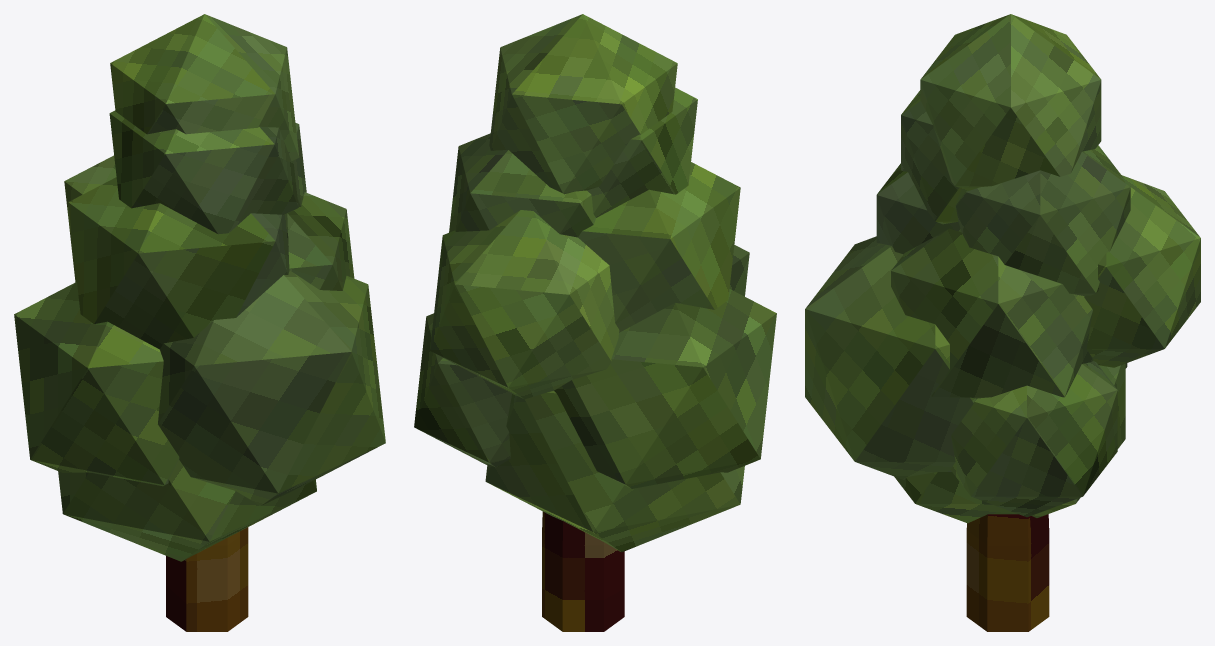
The model's file is oaktree.glb.
The picture shows the model from 3 angles, left to right: view 1: azimuth 30°, elevation 25°; view 2: azimuth 150°, elevation 25°; view 3: azimuth 270°, elevation 25°; orthographic projection.
Parts seen in each view (by area): view 1: Icosphere.002, Icosphere.006, Icosphere.001, Icosphere.009, Icosphere.008, Icosphere.004, Cylinder, Icosphere.003, Icosphere.007, Icosphere.005; view 2: Icosphere.001, Icosphere.007, Icosphere.009, Icosphere.004, Icosphere.006, Icosphere.005, Cylinder, Icosphere, Icosphere.008, Icosphere.002; view 3: Icosphere.002, Icosphere.009, Icosphere.003, Icosphere, Icosphere.005, Icosphere.007, Cylinder, Icosphere.008, Icosphere.004, Icosphere.006.
Part boxes in pixels (box(x1,y1,x2,y2)): Icosphere.002: box(158, 270, 385, 505); Icosphere.006: box(68, 177, 289, 349); Icosphere.001: box(14, 282, 179, 486); Icosphere.009: box(110, 14, 299, 160); Icosphere.008: box(109, 110, 298, 234); Icosphere.004: box(58, 460, 316, 561); Cylinder: box(166, 527, 248, 631); Icosphere.003: box(287, 192, 354, 290); Icosphere.007: box(64, 155, 116, 282); Icosphere.005: box(293, 122, 306, 206); Icosphere.001: box(554, 289, 776, 488); Icosphere.007: box(430, 210, 619, 399); Icosphere.009: box(489, 14, 677, 194); Icosphere.004: box(485, 391, 744, 552); Icosphere.006: box(578, 162, 740, 332); Icosphere.005: box(449, 133, 595, 237); Cylinder: box(542, 511, 624, 631); Icosphere: box(414, 313, 511, 467); Icosphere.008: box(587, 87, 697, 217); Icosphere.002: box(729, 245, 749, 296); Icosphere.002: box(805, 236, 975, 479); Icosphere.009: box(920, 14, 1101, 187); Icosphere.003: box(891, 228, 1093, 398); Icosphere: box(950, 361, 1117, 517); Icosphere.005: box(956, 145, 1130, 295); Icosphere.007: box(1084, 175, 1200, 367); Cylinder: box(966, 514, 1049, 631); Icosphere.008: box(901, 90, 978, 224); Icosphere.004: box(894, 363, 1125, 523); Icosphere.006: box(876, 163, 961, 254).
Size of the model in its own units: 10.03 by 17.82 by 10.61.
Materials: 2 (2 with a texture image).
